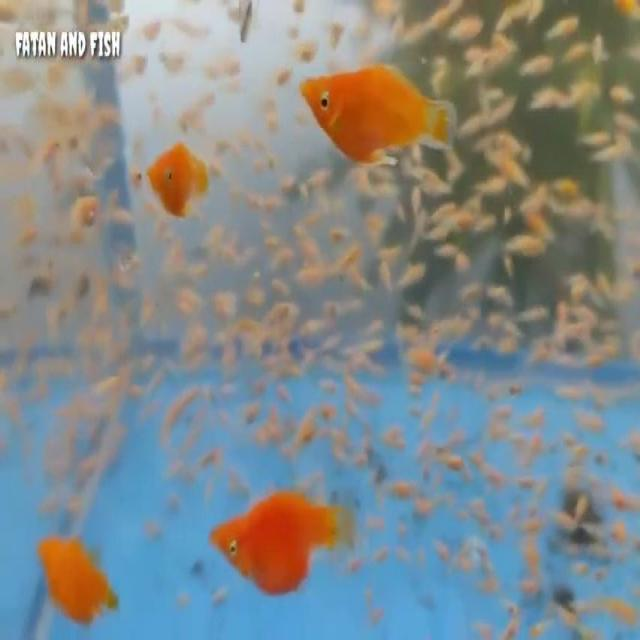PlatyFish: (289, 56, 465, 177), (204, 479, 359, 606), (142, 135, 209, 225)
